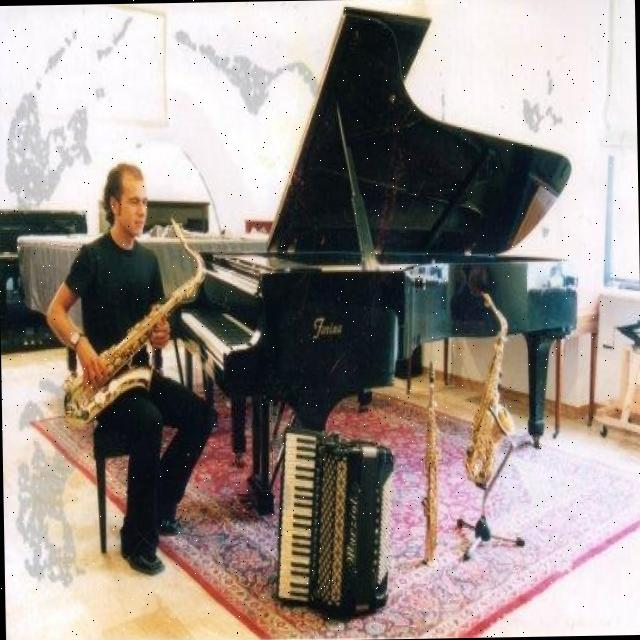saxophone: (55, 213, 211, 428), (460, 288, 518, 490)
